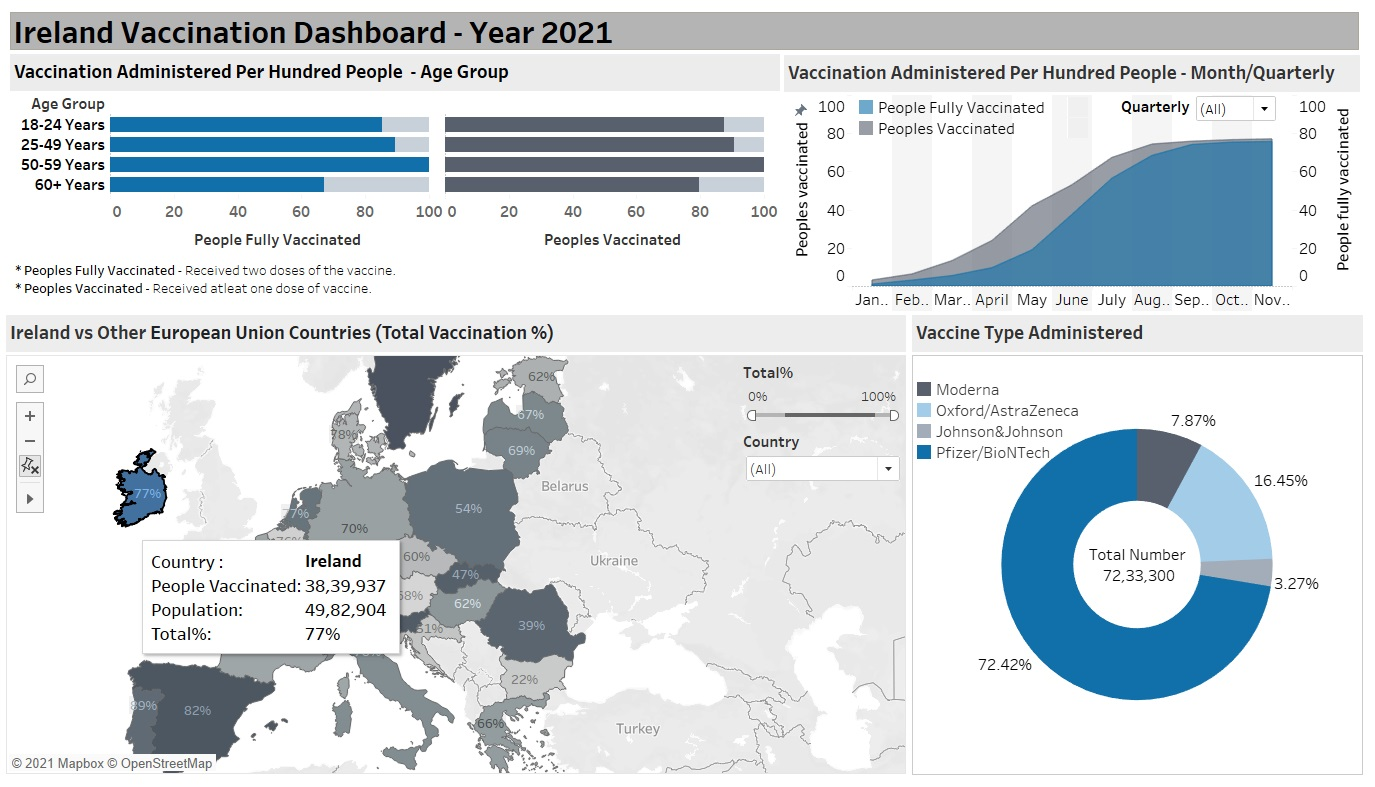

What the dashboard file says about the page in this screenshot:
{"tool":"tableau","page":{"name":"Ireland Vaccination Dashboard","canvas":[1366,768],"ordinal":0},"visuals":[{"type":"title","box":[16,7,1349,38]},{"type":"worksheet","title":"Age Vaccination","mark":"Bar","rows":["age_group"],"cols":["Calculation_380835690556104704","people_fully_vaccinated_per_hundred (Extract3)","Calculation_380835690556104704","people_vaccinated_per_hundred (Extract3)"],"box":[16,49,770,205]},{"type":"worksheet","title":"Month - Vaccinated Per Hundred (3)","mark":"Area","rows":["people_vaccinated_per_hundred","people_fully_vaccinated_per_hundred"],"cols":["Date of Vaccination"],"box":[790,50,576,256]},{"type":"legend","title":"Month - Vaccinated Per Hundred (3)","param":"[federated.1imj1jo1el48uo1914y1r07nqynh].[:Measure Names]","box":[862,88,234,63]},{"type":"filter","title":"Month - Vaccinated Per Hundred (3)","param":"[federated.1imj1jo1el48uo1914y1r07nqynh].[qr:Date of Vaccination:ok]","box":[1127,91,158,26]},{"type":"text","box":[18,241,772,66]},{"type":"worksheet","title":"EU Map","mark":"Multipolygon","box":[12,310,900,459]},{"type":"worksheet","title":"Vaccine Type (Donut)","mark":"Pie","cols":["Calculation_269653074386128899","Calculation_269653074386128899"],"box":[918,310,451,460]},{"type":"legend","title":"Vaccine Type (Donut)","param":"[federated.1imj1jo1el48uo1914y1r07nqynh].[none:Vaccine Type:nk]","box":[920,352,170,106]},{"type":"filter","title":"EU Map","param":"[federated.1imj1jo1el48uo1914y1r07nqynh].[sum:Total%:qk]","box":[749,357,160,65]},{"type":"filter","title":"EU Map","param":"[federated.1imj1jo1el48uo1914y1r07nqynh].[none:Country (Extract2):nk]","box":[749,426,160,61]}]}

Visuals, with their boxes in screenshot pixels (x1, y1, x2, y2), scaled from the page's 1366x768 canvas onto the 1375x787 screenshot:
title: l=16, t=7, r=1374, b=46
"Age Vaccination" worksheet (Bar marks): l=16, t=50, r=791, b=260
"Month - Vaccinated Per Hundred (3)" worksheet (Area marks): l=795, t=51, r=1374, b=314
"Month - Vaccinated Per Hundred (3)" legend: l=868, t=90, r=1103, b=155
"Month - Vaccinated Per Hundred (3)" filter: l=1134, t=93, r=1293, b=120
text: l=18, t=247, r=795, b=315
"EU Map" worksheet (Multipolygon marks): l=12, t=318, r=918, b=786
"Vaccine Type (Donut)" worksheet (Pie marks): l=924, t=318, r=1374, b=786
"Vaccine Type (Donut)" legend: l=926, t=361, r=1097, b=469
"EU Map" filter: l=754, t=366, r=915, b=432
"EU Map" filter: l=754, t=437, r=915, b=499
